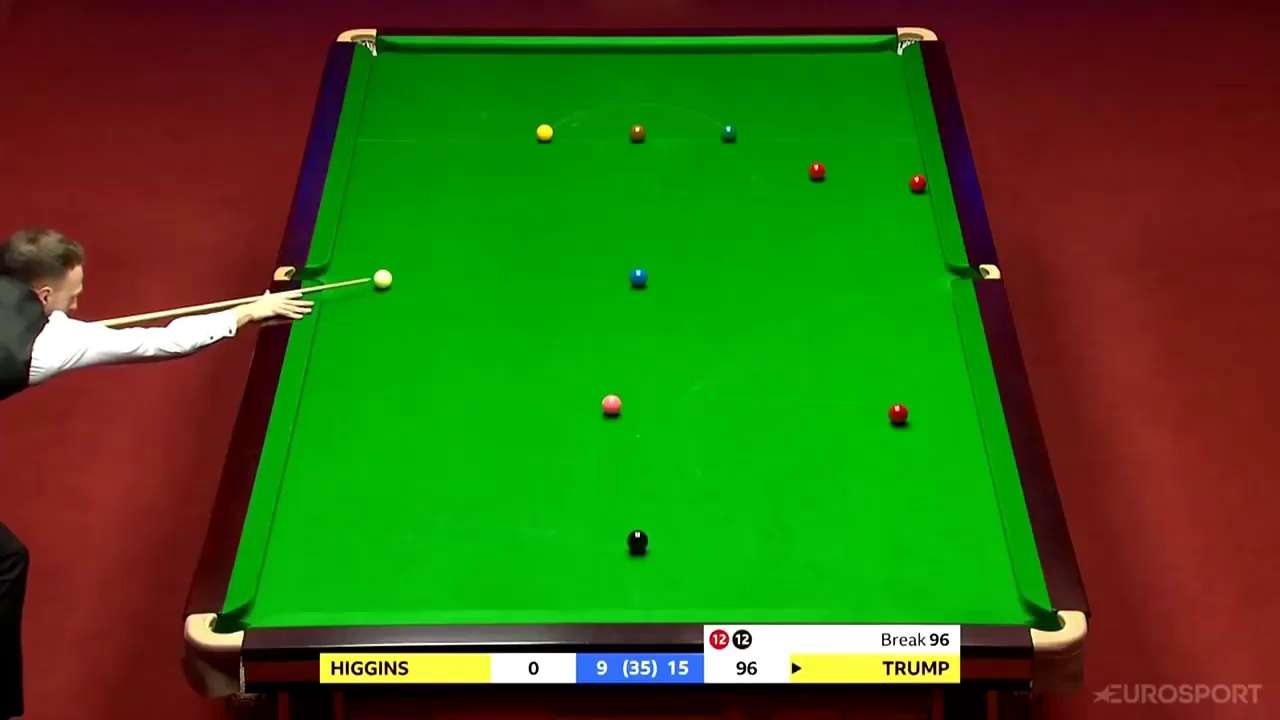ball: (625, 266, 653, 291), (600, 393, 623, 421), (625, 529, 649, 553), (369, 267, 395, 288), (888, 402, 910, 426), (906, 170, 926, 196), (626, 120, 649, 141), (806, 159, 826, 180), (537, 119, 552, 142), (719, 122, 738, 140)
